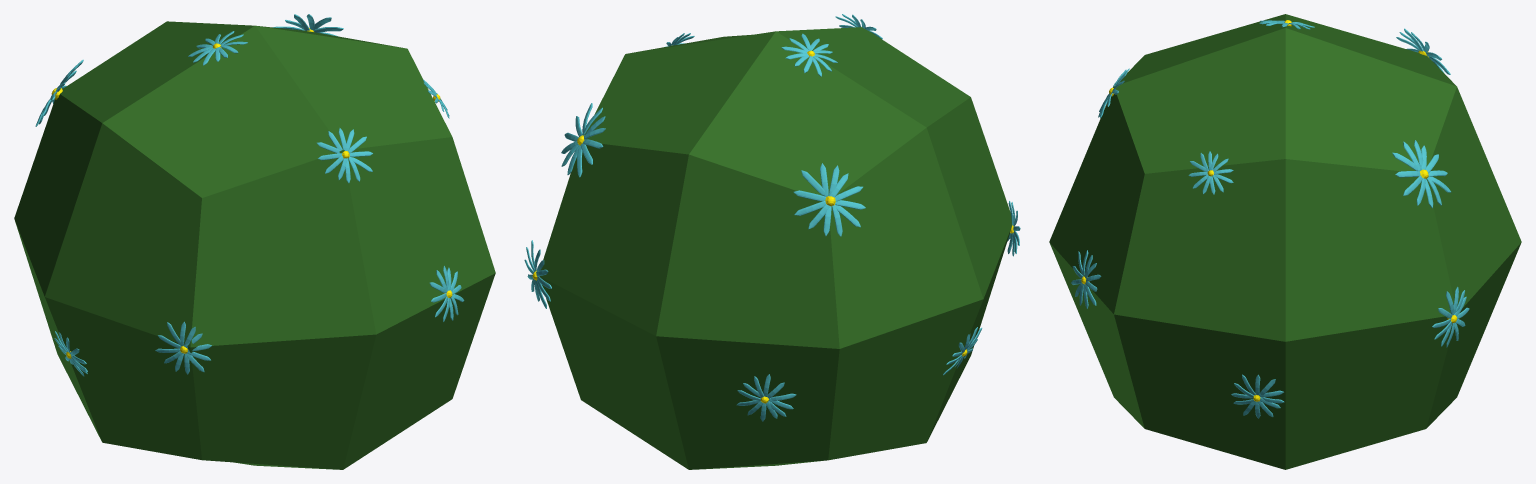
File: arbusto_flores_celestes.fbx
3 views of the same model, side by side, from view 1: azimuth 30°, elevation 25°; view 2: azimuth 150°, elevation 25°; view 3: azimuth 270°, elevation 25° (orthographic). The views are drawn at different scales.
Parts seen in each view (by area): view 1: Cube.188; view 2: Cube.188; view 3: Cube.188.
Boxes of the visible parts, box(x1,y1,x2,y2) form: Cube.188: box(14, 14, 495, 469); Cube.188: box(524, 14, 1020, 469); Cube.188: box(1049, 14, 1521, 469).
Bounding box in the file's own units: 168 × 168 × 168.
